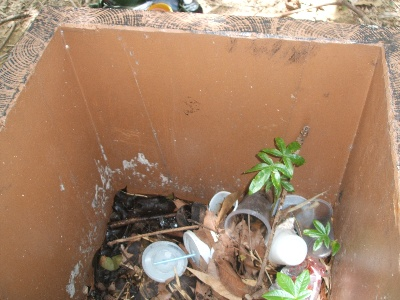bottle: (224, 193, 271, 247)
